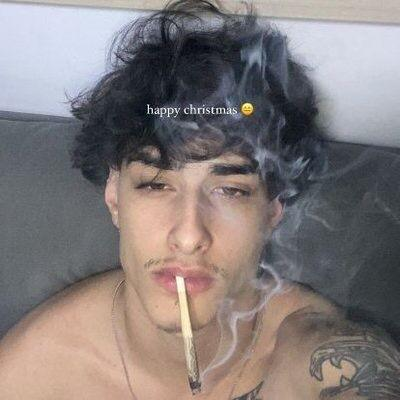cigarette: (176, 275, 202, 396)
